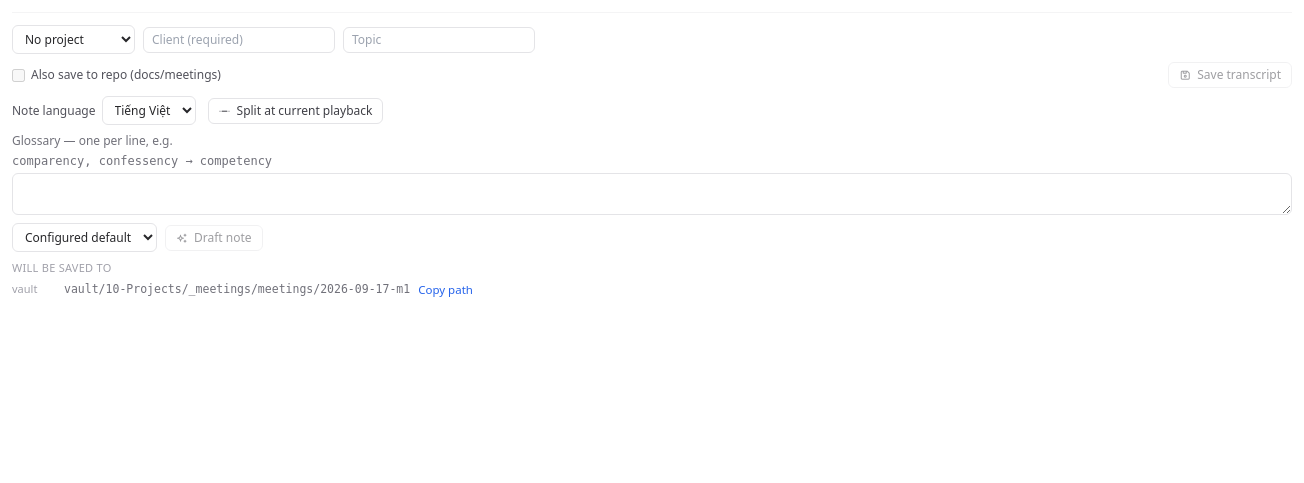
it: after the save › leaves the prediction in place when the save fails
The width and height of the screenshot is (1304, 483).
Select "Mantu" in the dropdown named "Project or workspace". click: (74, 40)
box: left=12, top=25, right=135, bottom=54
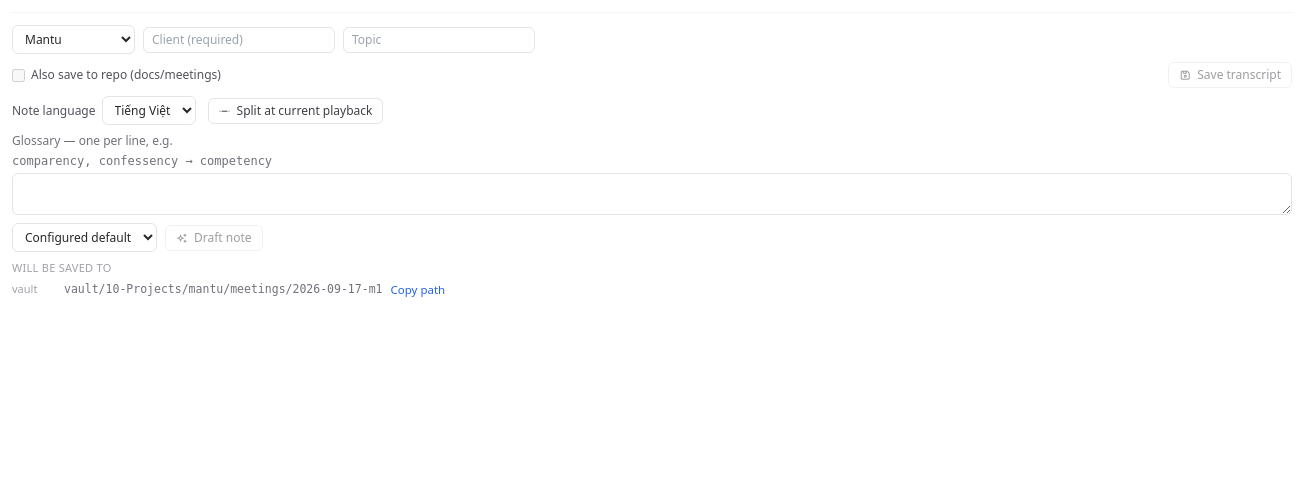
Type "Chị Kate" into the field labelled "Client". click: (239, 40)
box: left=143, top=26, right=335, bottom=52
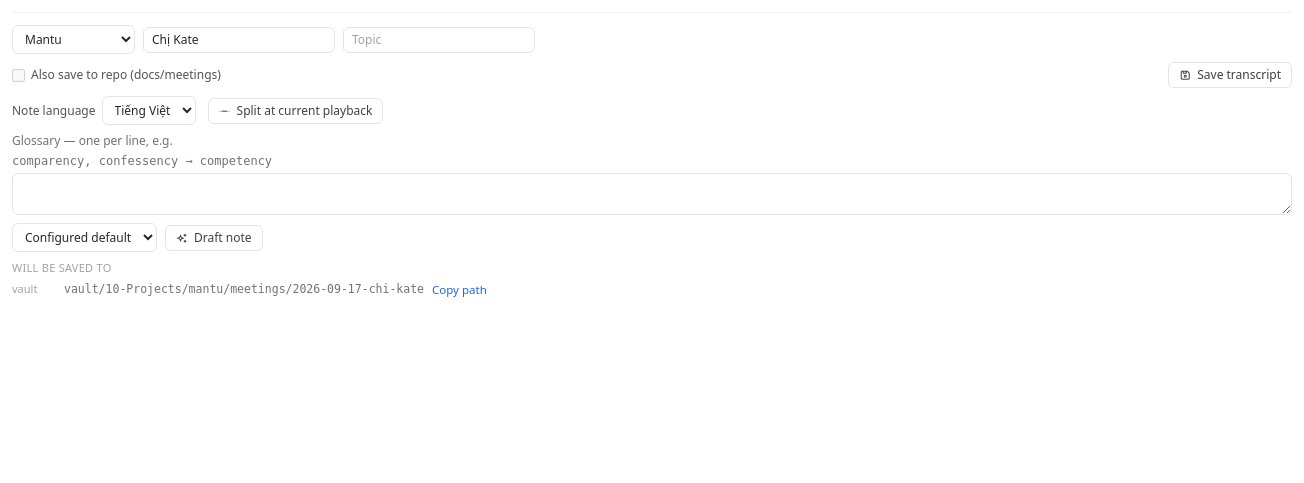
Click the button "Save transcript". click: (1230, 75)
box: left=1168, top=62, right=1292, bottom=88
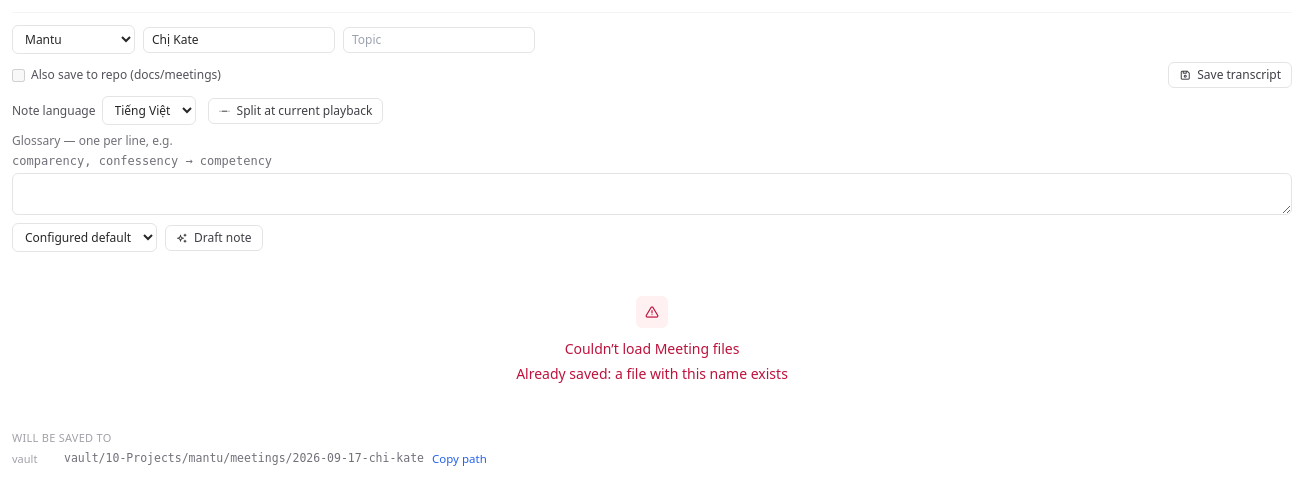
Expected: the element with test id "destinations" shows "Will be saved to", left=12, top=430, right=112, bottom=445
Expected: the element with test id "destinations" no longer shows "Saved to"
